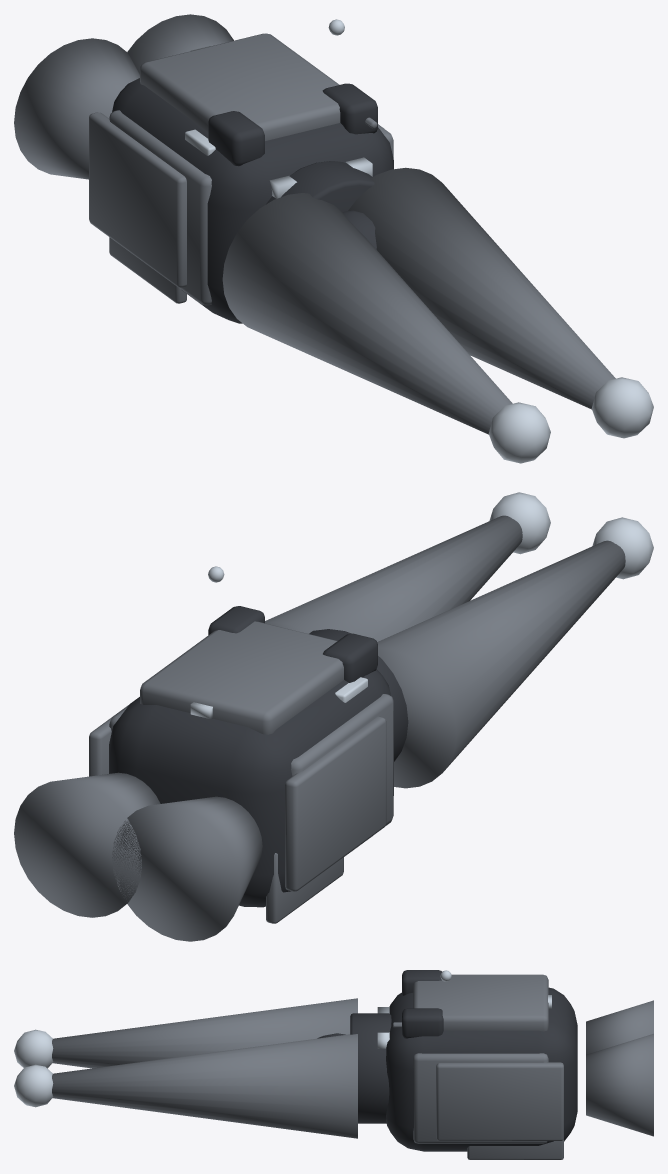
File: weapon_drone_hailstorm.glb
3 views of the same model, one above another, from view 1: azimuth 30°, elevation 25°; view 2: azimuth 150°, elevation 25°; view 3: azimuth 270°, elevation 25° (orthographic). The views are drawn at different scales.
Visible parts, largest first — view 1: weapon_drone_hailstorm; view 2: weapon_drone_hailstorm; view 3: weapon_drone_hailstorm.
Part boxes in pixels (x1,y1,x2,y2): weapon_drone_hailstorm: (14, 14, 653, 463); weapon_drone_hailstorm: (14, 492, 653, 941); weapon_drone_hailstorm: (14, 970, 653, 1159).
Size of the model in its own units: 0.7207 by 0.7692 by 2.45.
